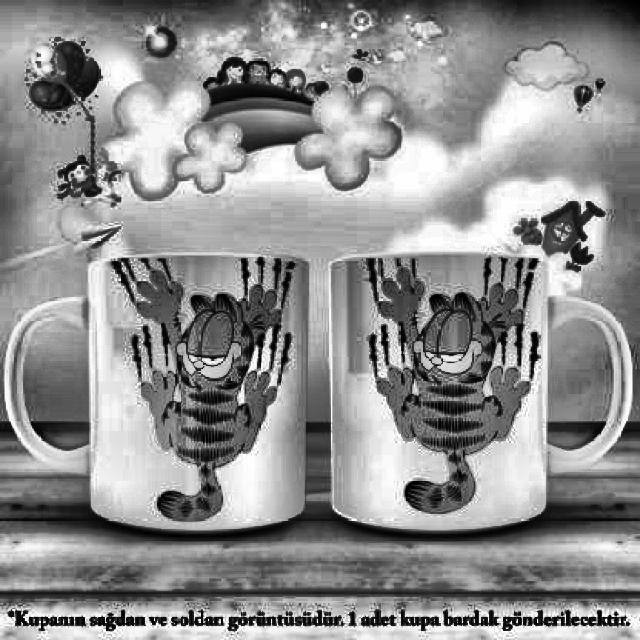Mug: (4, 252, 310, 536), (326, 254, 634, 535)
